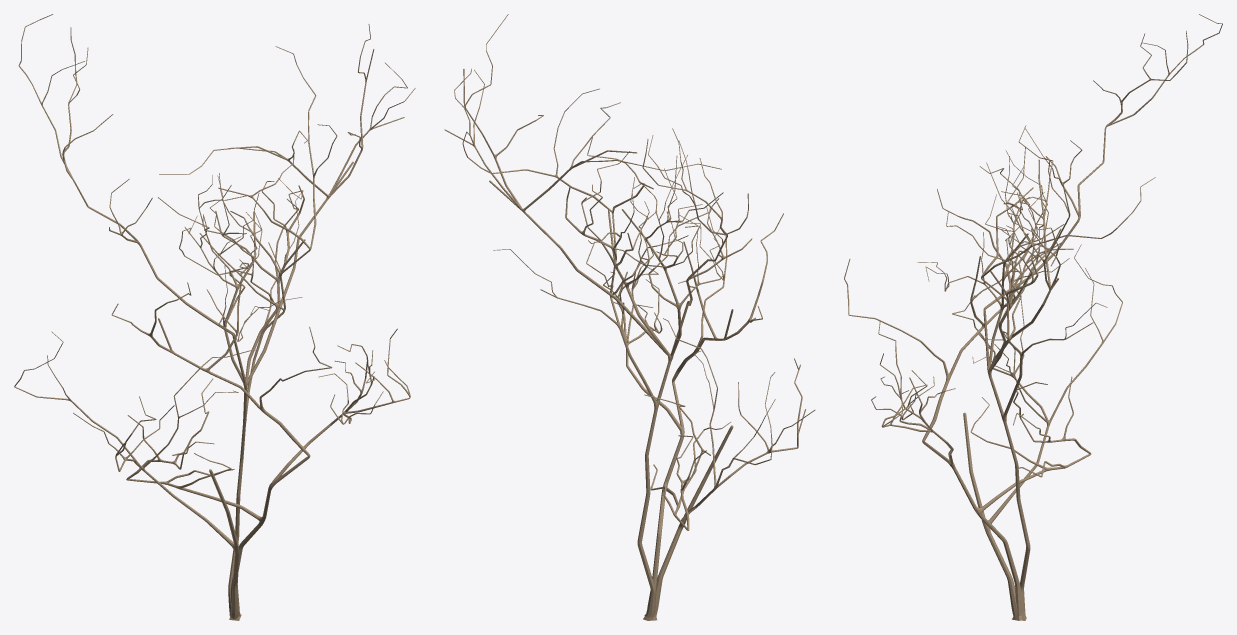
3 views of the same model, side by side, from view 1: azimuth 30°, elevation 25°; view 2: azimuth 150°, elevation 25°; view 3: azimuth 270°, elevation 25° (orthographic). The views are drawn at different scales.
Parts seen in each view (by area): view 1: Arbusto; view 2: Arbusto; view 3: Arbusto.
Part boxes in pixels (x1,y1,x2,y2): Arbusto: (14, 14, 415, 620); Arbusto: (444, 14, 815, 620); Arbusto: (844, 14, 1222, 620).
Size of the model in its own units: 2.28 by 3.45 by 2.11.
